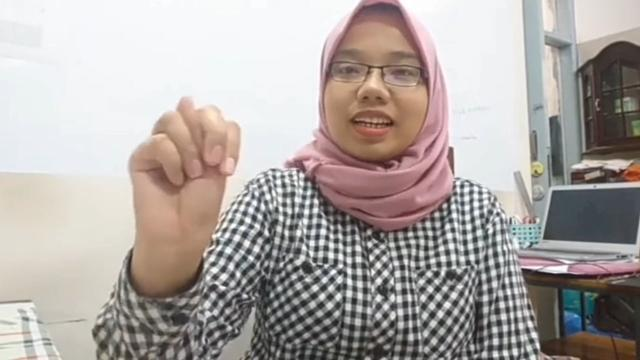N: (124, 88, 246, 244)
